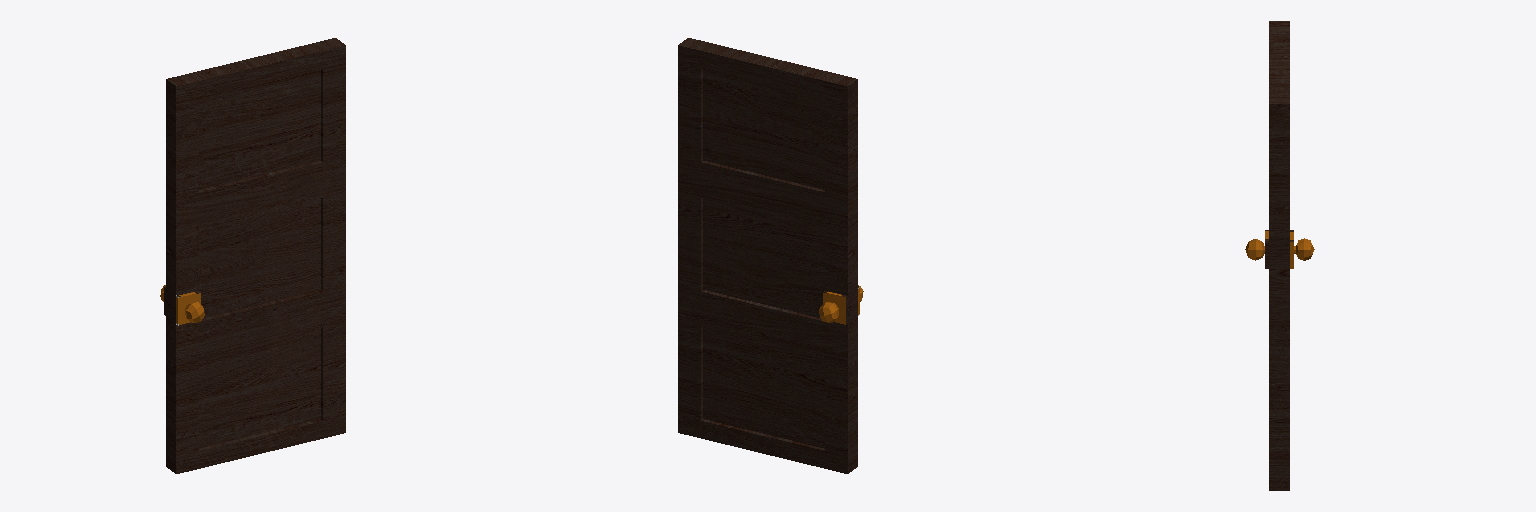
3 renders of one model, left to right at view 1: azimuth 30°, elevation 25°; view 2: azimuth 150°, elevation 25°; view 3: azimuth 270°, elevation 25°, orthographic.
Parts seen in each view (by area): view 1: Puerta:PUERTA_Plano_002; view 2: Puerta:PUERTA_Plano_002; view 3: Puerta:PUERTA_Plano_002.
Boxes of the visible parts, box(x1,y1,x2,y2) form: Puerta:PUERTA_Plano_002: box(160, 38, 345, 473); Puerta:PUERTA_Plano_002: box(678, 38, 863, 473); Puerta:PUERTA_Plano_002: box(1245, 21, 1314, 490).
Size of the model in its own units: 2.18 by 4.76 by 0.7712.
Materials: 1 (1 with a texture image).